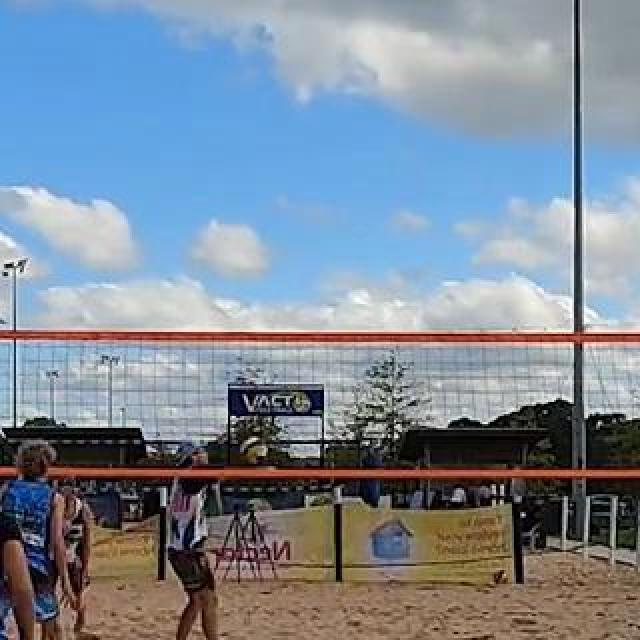volleyball: (241, 437, 267, 465), (493, 568, 509, 584)
